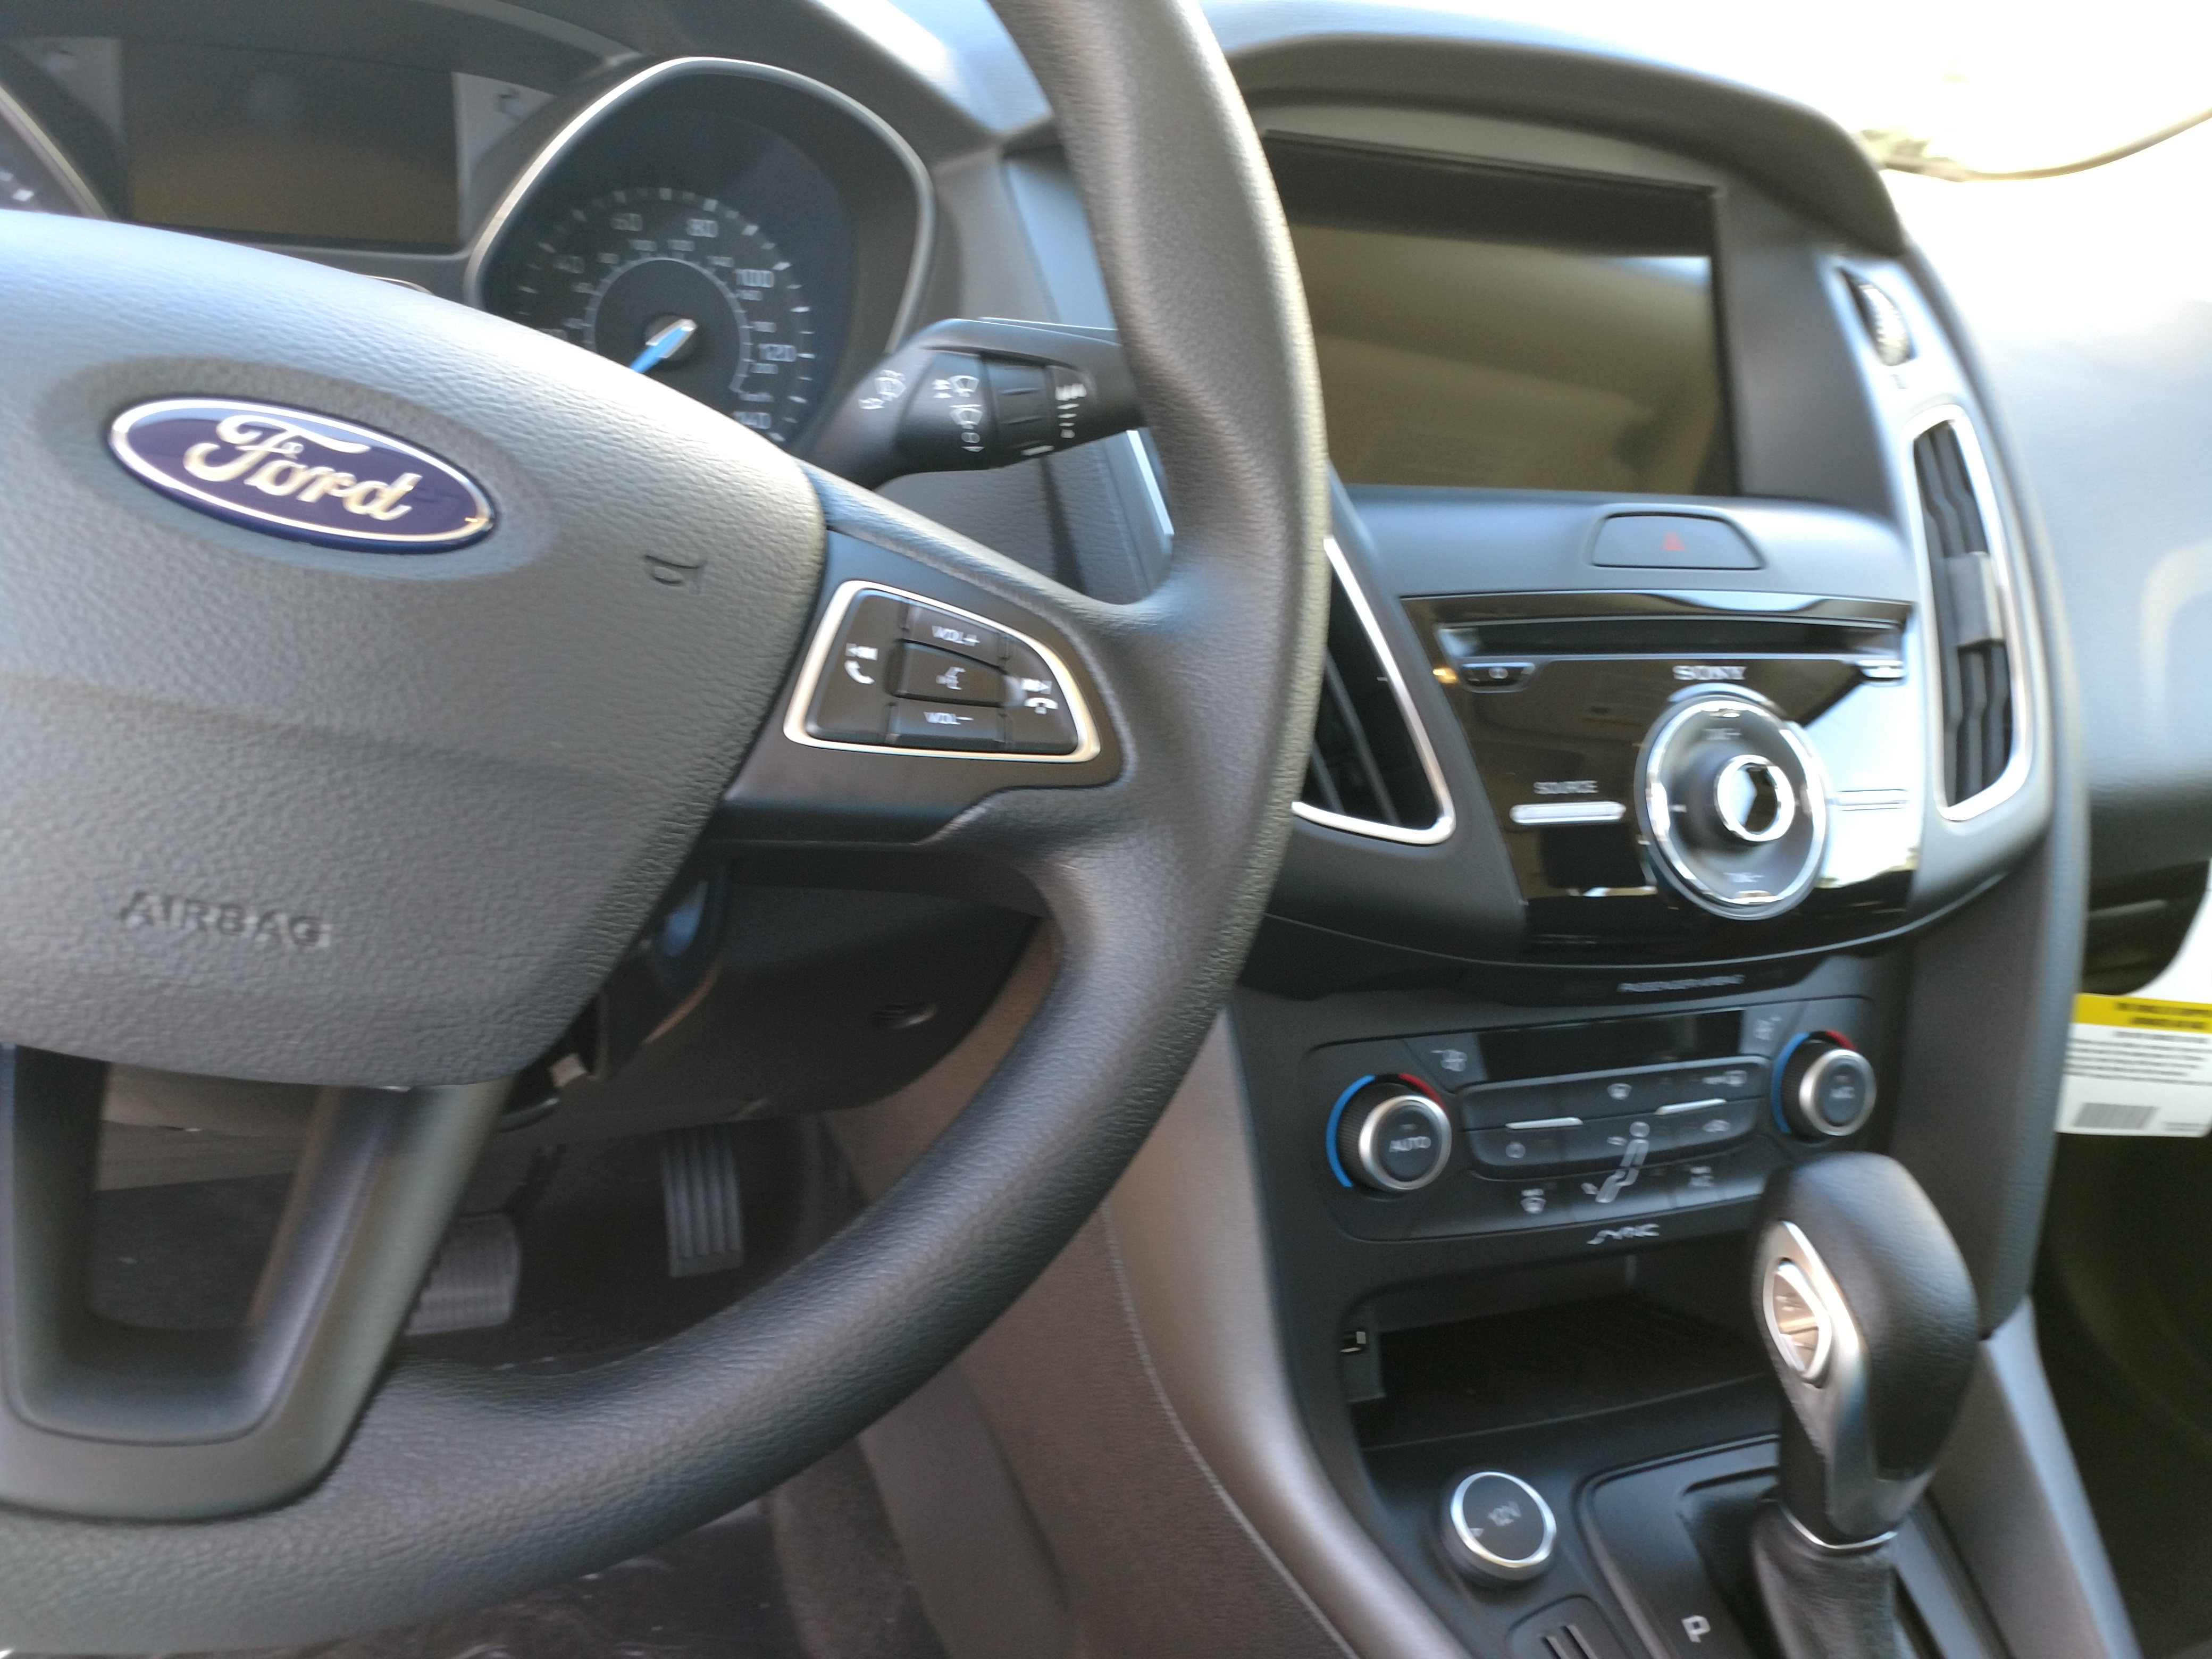Ford: (98, 380, 517, 577)
